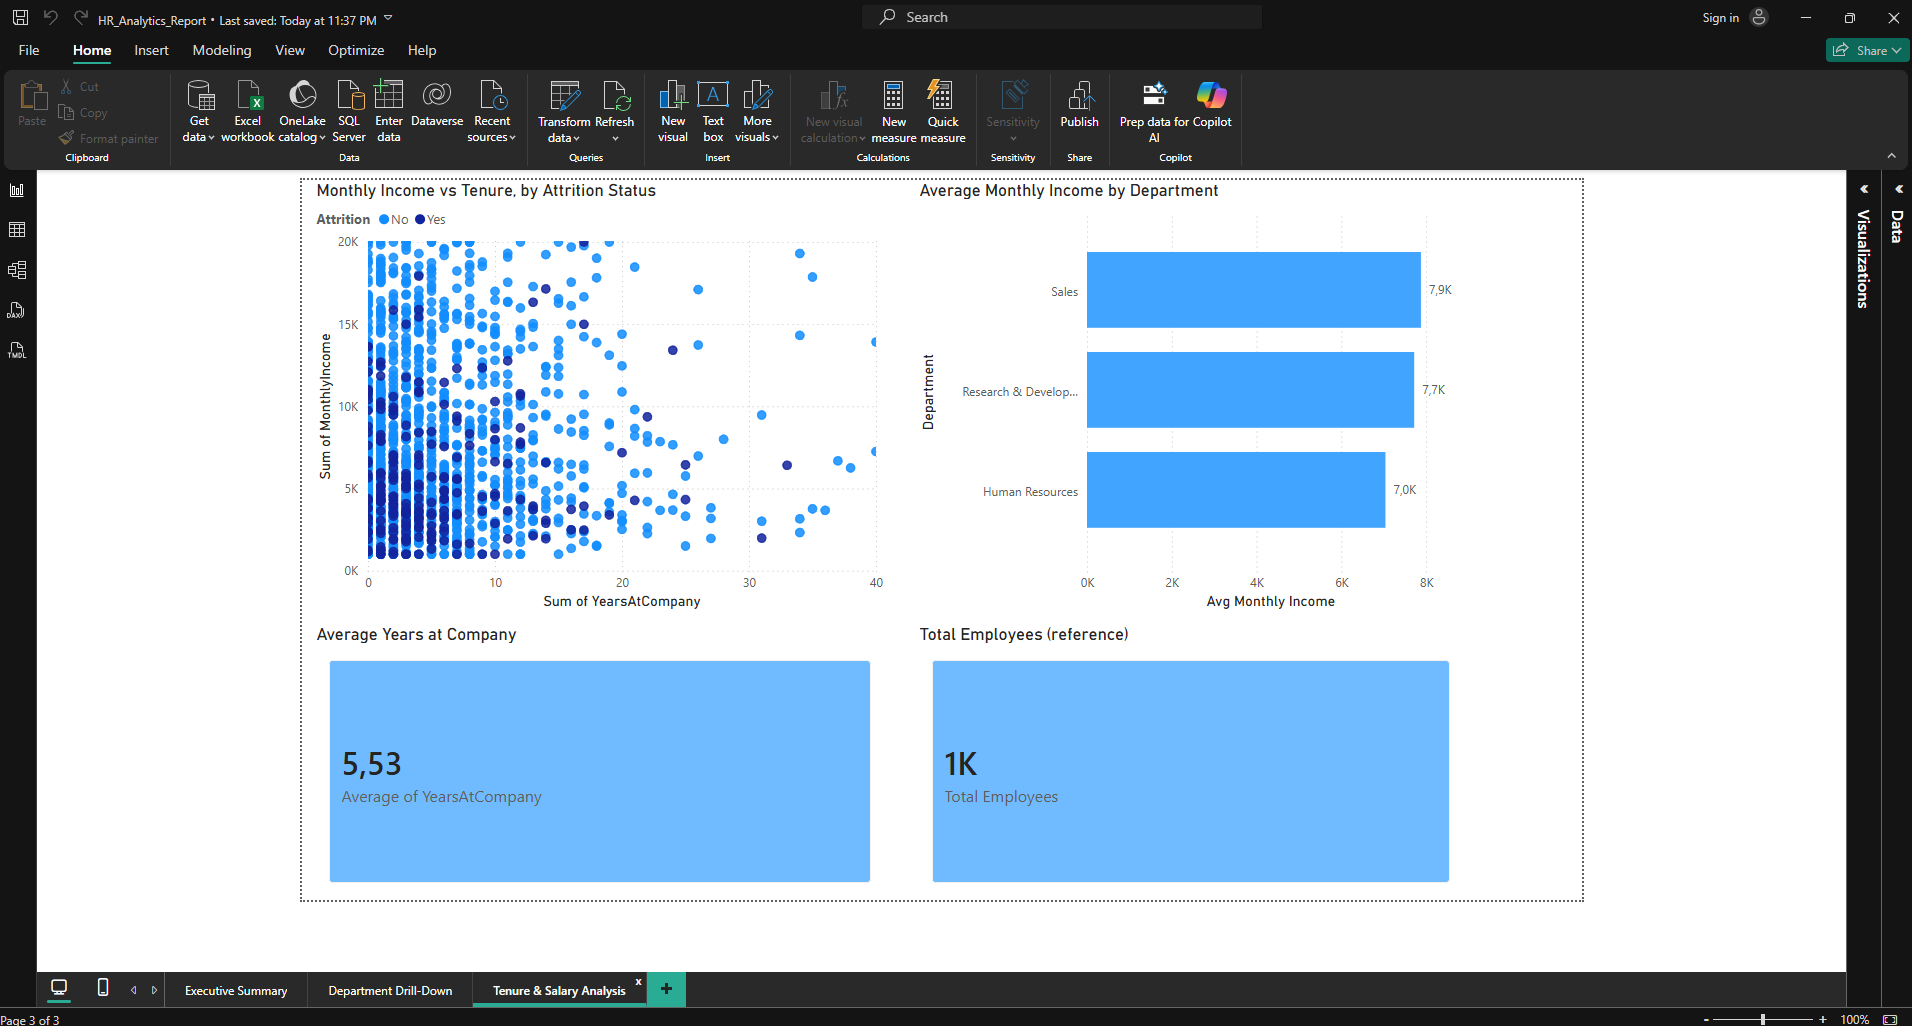

The dashboard page shown, as its layout file describes it:
{"tool":"powerbi","page":{"name":"Tenure & Salary Analysis","canvas":[1280,720],"ordinal":2},"visuals":[{"type":"scatterChart","title":"Monthly Income vs Tenure, by Attrition Status","fields":{"Category":["Fact_Employee.EmpID"],"X":["Sum(Fact_Employee.YearsAtCompany)"],"Y":["Sum(Fact_Employee.MonthlyIncome)"],"Series":["Fact_Employee.Attrition"]},"box":[9.8,0,576.2,434],"z":0},{"type":"clusteredBarChart","title":"Average Monthly Income by Department","fields":{"Category":["Dim_Department.Department"],"Y":["Fact_Employee.Avg Monthly Income"]},"box":[613,0,551.7,434],"z":1000},{"type":"cardVisual","title":"Average Years at Company","fields":{"Data":["Avg(Fact_Employee.YearsAtCompany)"]},"box":[10,444,576,276],"z":2000},{"type":"cardVisual","title":"Total Employees (reference)","fields":{"Data":["Fact_Employee.Total Employees"]},"box":[613,444,552,276],"z":3000}]}

Visuals, with their boxes on the page's 1280x720 design canvas (x1, y1, x2, y2). These are canvas units, not pixel positions in the 1912x1026 screenshot, which may show the page scaled, cropped or inside an application window:
"Monthly Income vs Tenure, by Attrition Status" scatterChart: (x1=10, y1=0, x2=586, y2=434)
"Average Monthly Income by Department" clusteredBarChart: (x1=613, y1=0, x2=1165, y2=434)
"Average Years at Company" cardVisual: (x1=10, y1=444, x2=586, y2=720)
"Total Employees (reference)" cardVisual: (x1=613, y1=444, x2=1165, y2=720)
